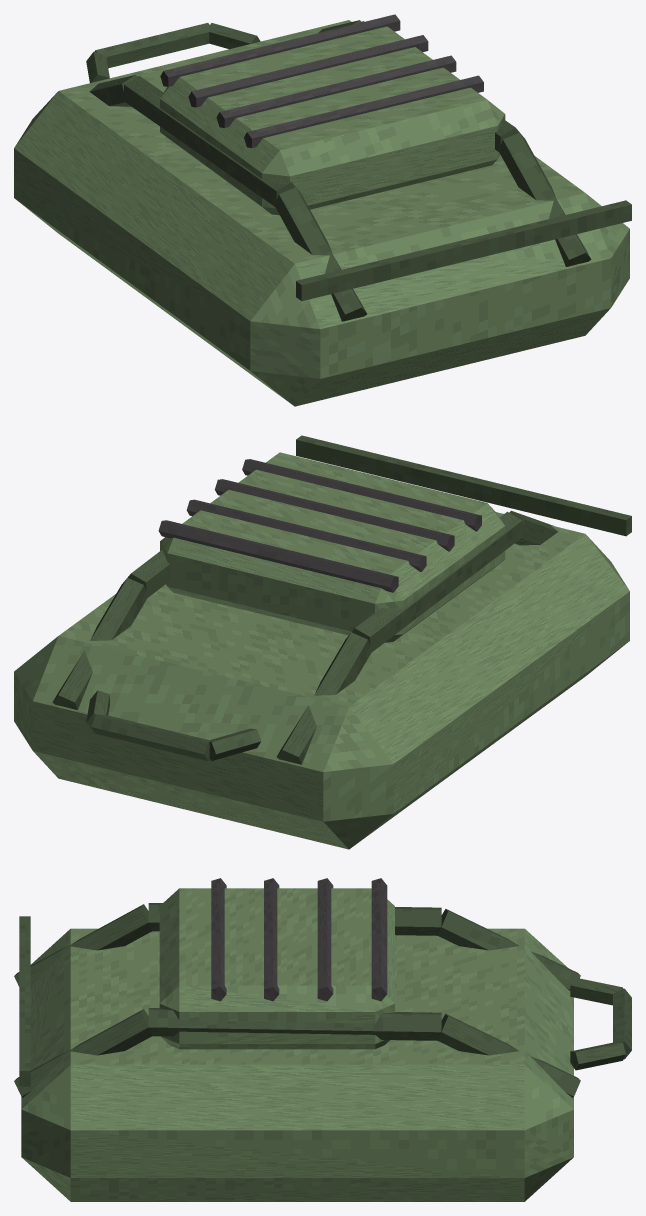
The model's file is molle_pack.glb.
The picture shows the model from 3 angles, top to bottom: view 1: azimuth 30°, elevation 25°; view 2: azimuth 150°, elevation 25°; view 3: azimuth 270°, elevation 25°; orthographic projection. The views are drawn at different scales.
Visible parts, largest first — view 1: block_bag shell, block_front pocket, block_load-bearing webbing 0 (×4), block_zipper, block_webbing strap 2 (×2), block_webbing strap 1, block_carry handle 1, block_carry handle 2, block_webbing strap 0, block_carry handle 0; view 2: block_bag shell, block_front pocket, block_load-bearing webbing 0 (×4), block_zipper, block_webbing strap 0 (×2), block_webbing strap 1 (×2), block_carry handle 1, block_carry handle 0, block_webbing strap 2; view 3: block_bag shell, block_front pocket, block_load-bearing webbing 0 (×4), block_webbing strap 1 (×2), block_webbing strap 2 (×2), block_webbing strap 0 (×2), block_zipper, block_carry handle 2, block_carry handle 1, block_carry handle 0.
Boxes of the visible parts, left/top/right/bottom form: block_bag shell: left=14, top=20, right=629, bottom=406; block_front pocket: left=160, top=26, right=505, bottom=215; block_load-bearing webbing 0 (×4): left=160, top=14, right=483, bottom=147; block_zipper: left=296, top=200, right=631, bottom=301; block_webbing strap 2 (×2): left=274, top=132, right=591, bottom=321; block_webbing strap 1: left=124, top=75, right=297, bottom=206; block_carry handle 1: left=94, top=23, right=209, bottom=68; block_carry handle 2: left=209, top=23, right=260, bottom=49; block_webbing strap 0: left=89, top=74, right=137, bottom=106; block_carry handle 0: left=86, top=51, right=109, bottom=82; block_bag shell: left=14, top=512, right=629, bottom=849; block_front pocket: left=160, top=452, right=505, bottom=642; block_load-bearing webbing 0 (×4): left=158, top=459, right=481, bottom=592; block_zipper: left=296, top=435, right=631, bottom=536; block_webbing strap 0 (×2): left=52, top=578, right=372, bottom=764; block_webbing strap 1 (×2): left=127, top=511, right=522, bottom=652; block_carry handle 1: left=91, top=714, right=209, bottom=760; block_carry handle 0: left=209, top=728, right=261, bottom=760; block_webbing strap 2: left=509, top=510, right=557, bottom=545; block_bag shell: left=21, top=928, right=573, bottom=1201; block_front pocket: left=159, top=888, right=394, bottom=1049; block_load-bearing webbing 0 (×4): left=211, top=878, right=387, bottom=1001; block_webbing strap 1 (×2): left=148, top=903, right=441, bottom=1040; block_webbing strap 2 (×2): left=14, top=904, right=151, bottom=1097; block_webbing strap 0 (×2): left=438, top=909, right=580, bottom=1097; block_zipper: left=19, top=916, right=30, bottom=1086; block_carry handle 2: left=570, top=1042, right=625, bottom=1070; block_carry handle 1: left=613, top=988, right=631, bottom=1059; block_carry handle 0: left=570, top=977, right=623, bottom=1005.
Size of the model in its own units: 0.2513 by 0.1329 by 0.3689.
Materials: 1 (1 with a texture image).
